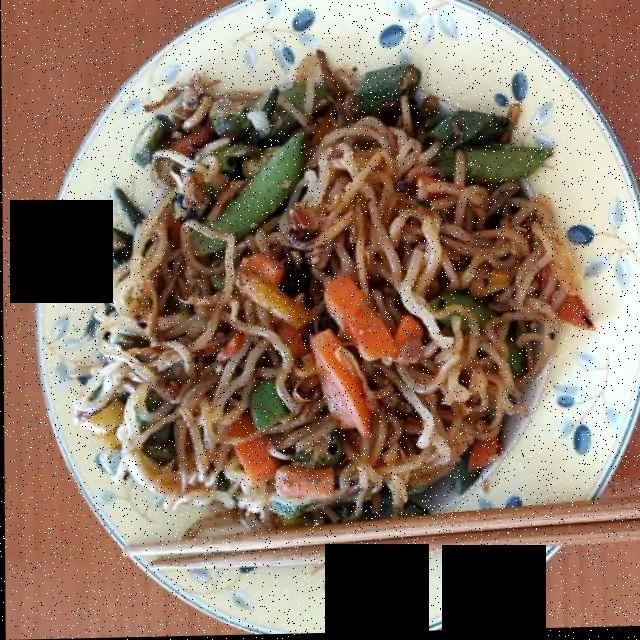mixed-vegetables: (76, 64, 570, 524)
noodles: (89, 129, 519, 512)
